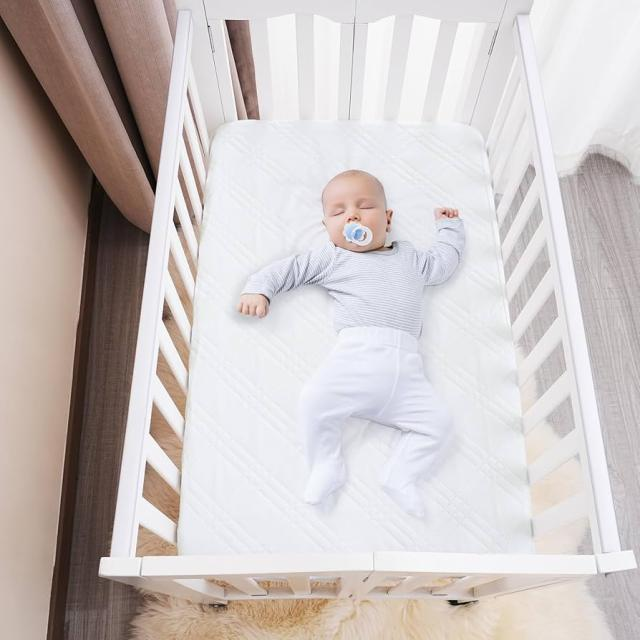baby: (237, 168, 466, 518)
crib: (96, 2, 636, 609)
